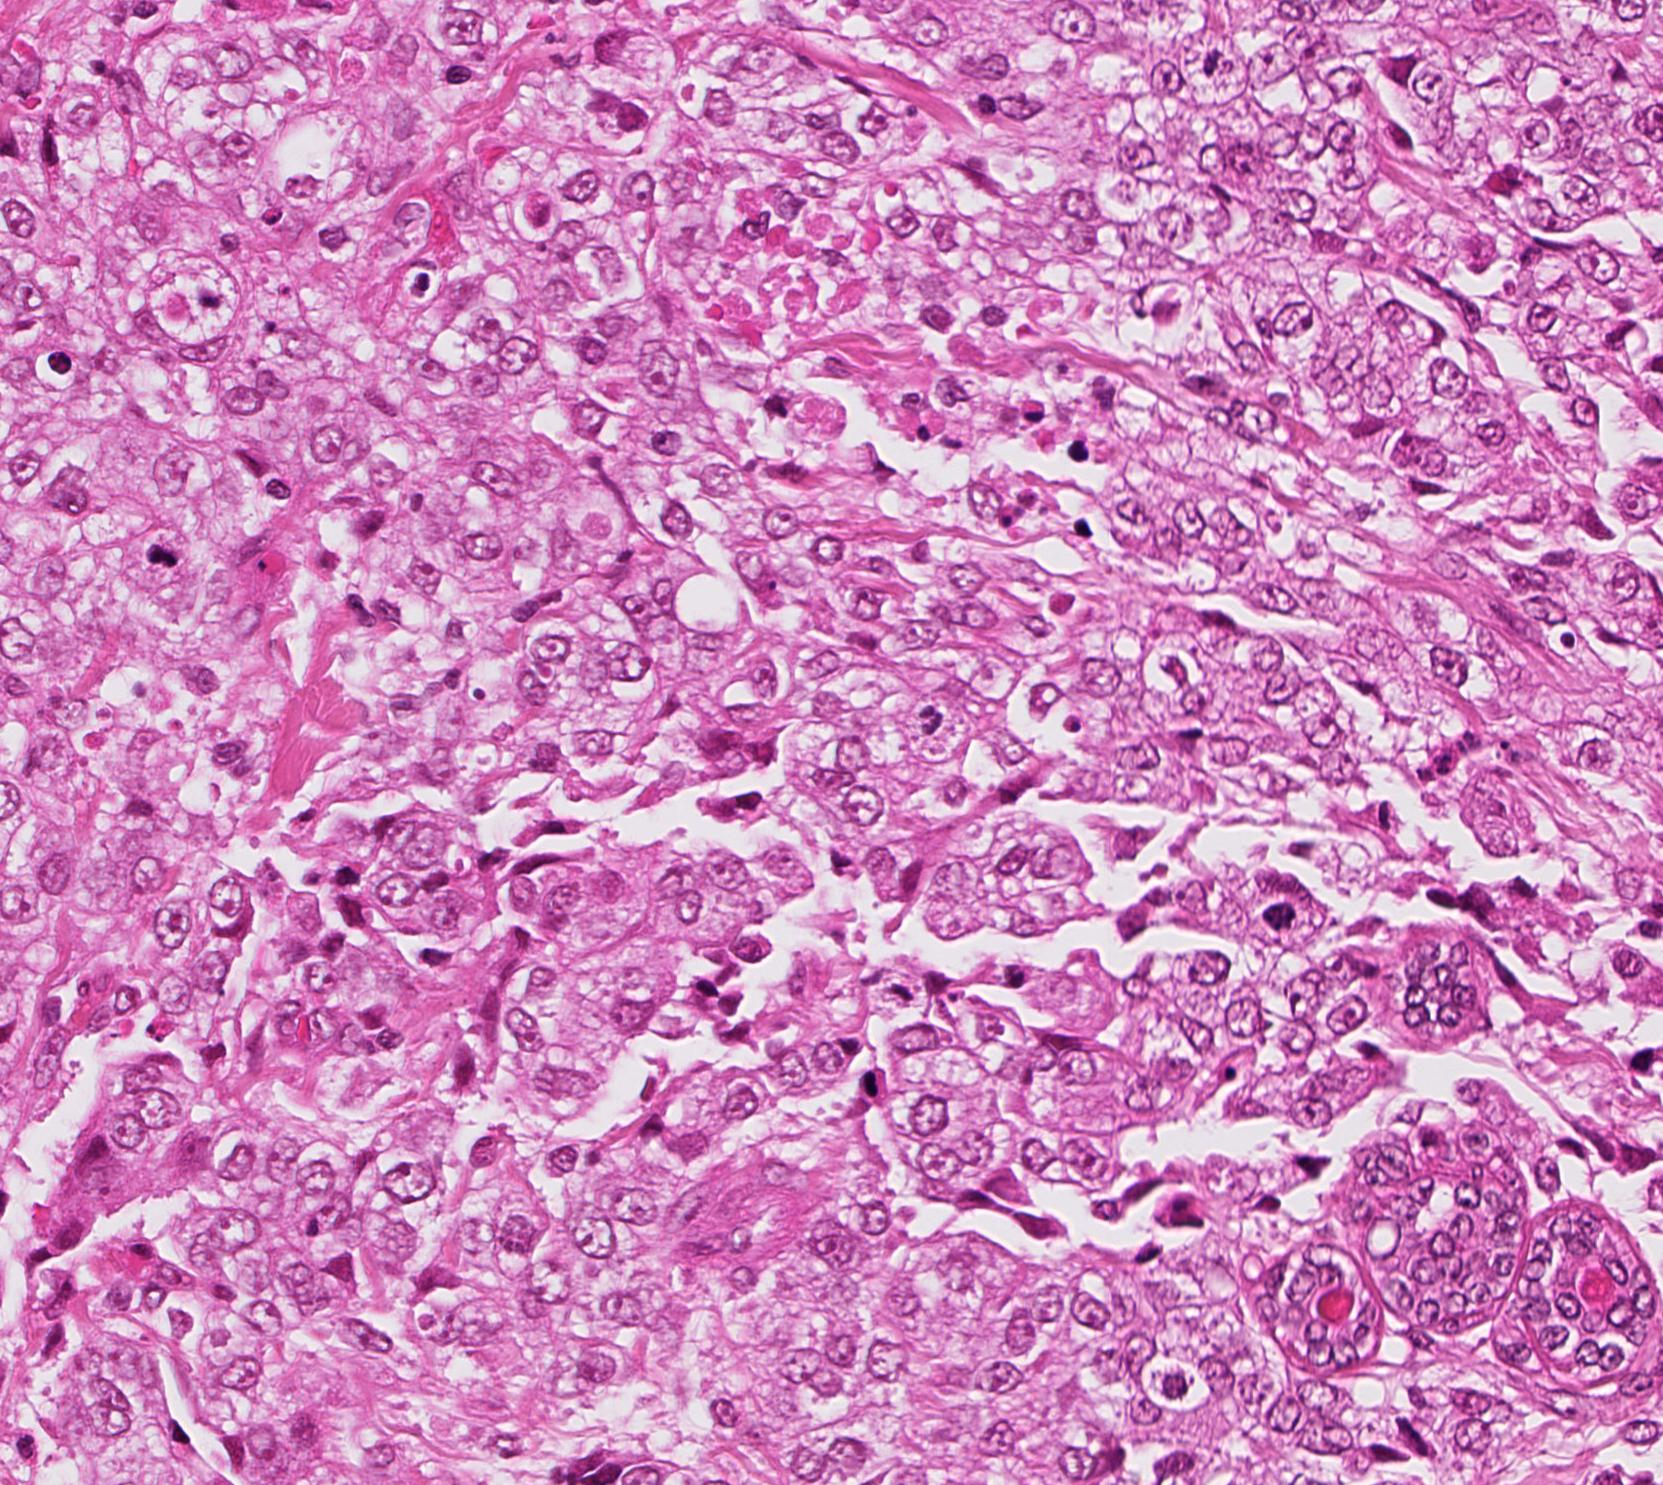mitosis: (130, 517, 191, 578), (1186, 34, 1246, 95), (1254, 889, 1315, 947)
